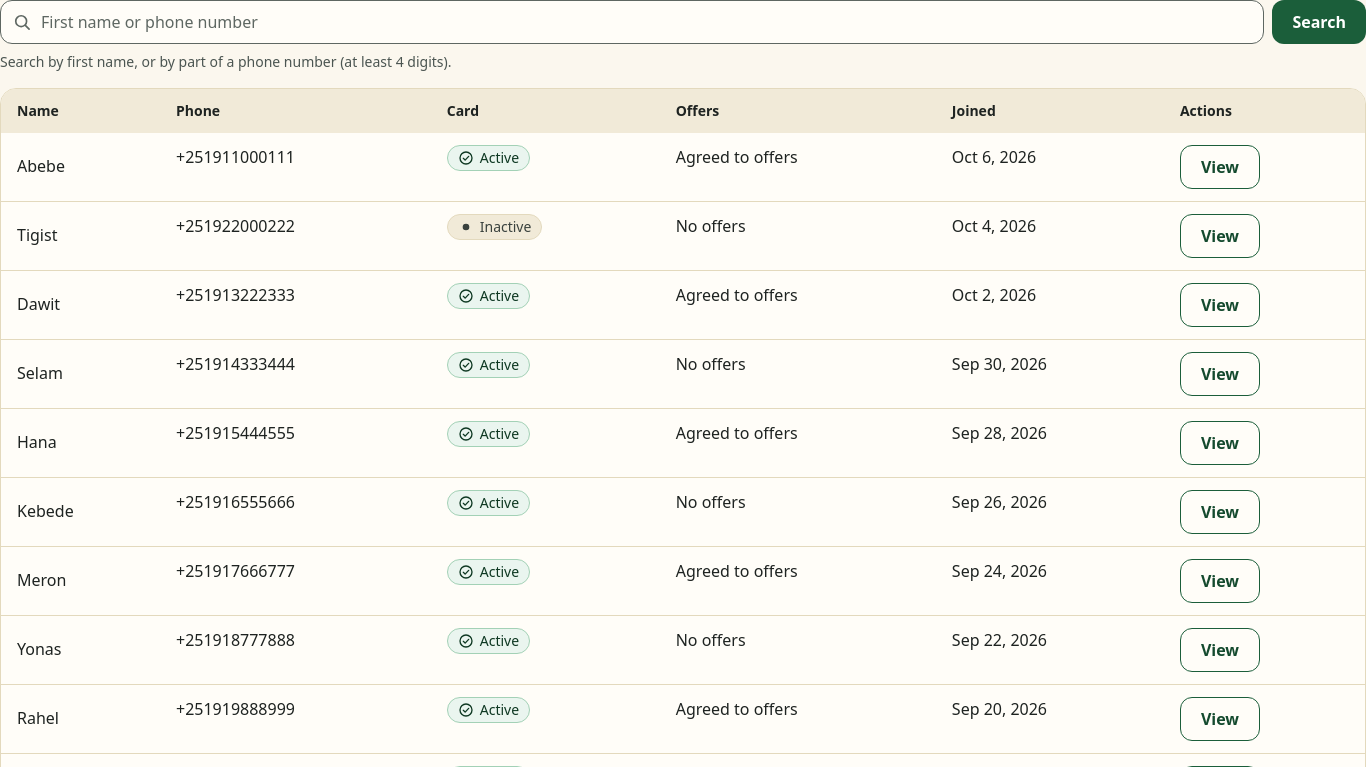
customers › lets a manager search by name and see whole phone numbers
Type "abebe" into the search field named "Search customers". click: (632, 22)
box: x1=0 y1=0 x2=1264 y2=44
Then press Enter
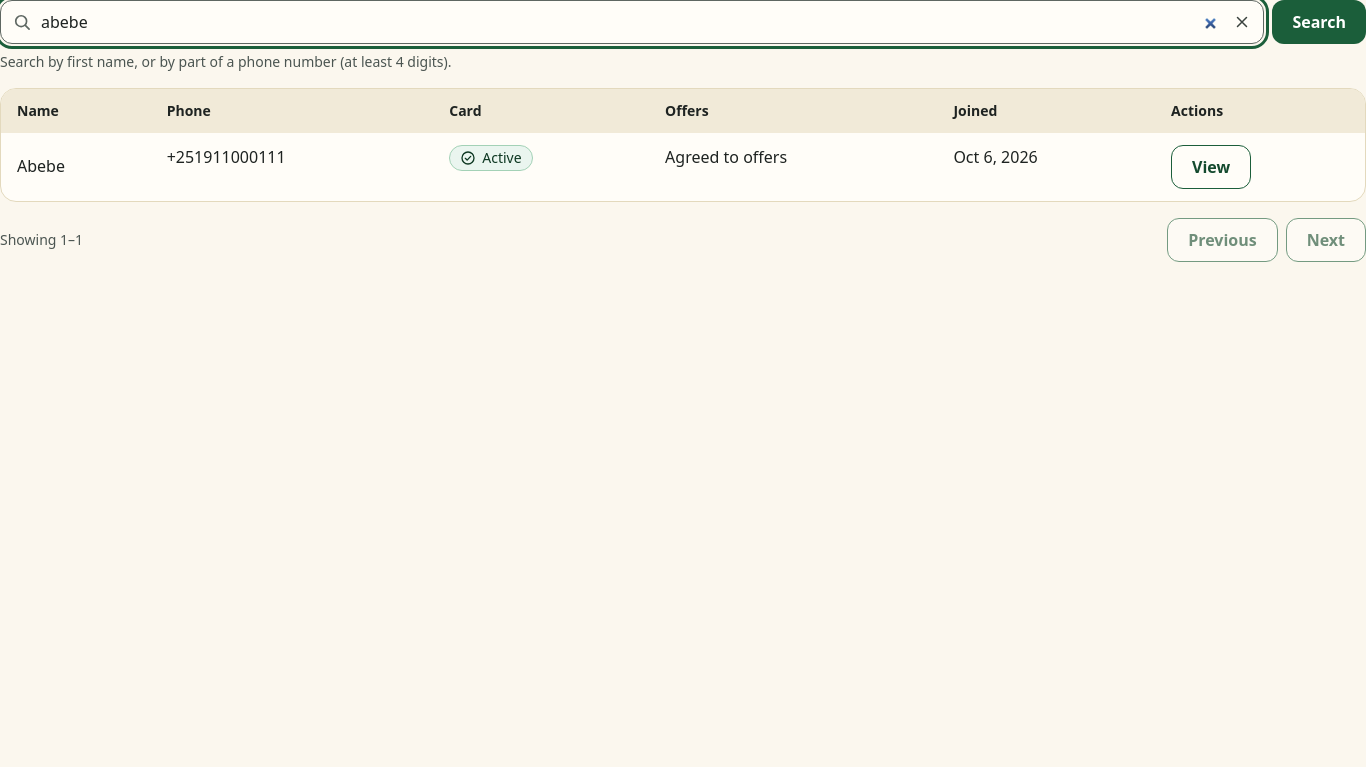
Expected: the text "+251911000111" is shown, x1=167 y1=146 x2=286 y2=168
Result: the number of rows is 2 at x1=1 y1=89 x2=1365 y2=133; x1=1 y1=133 x2=1365 y2=201
